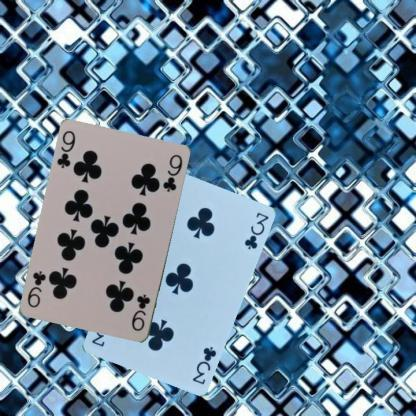3c: (190, 344, 217, 386)
9c: (54, 128, 77, 170), (129, 292, 152, 333)
